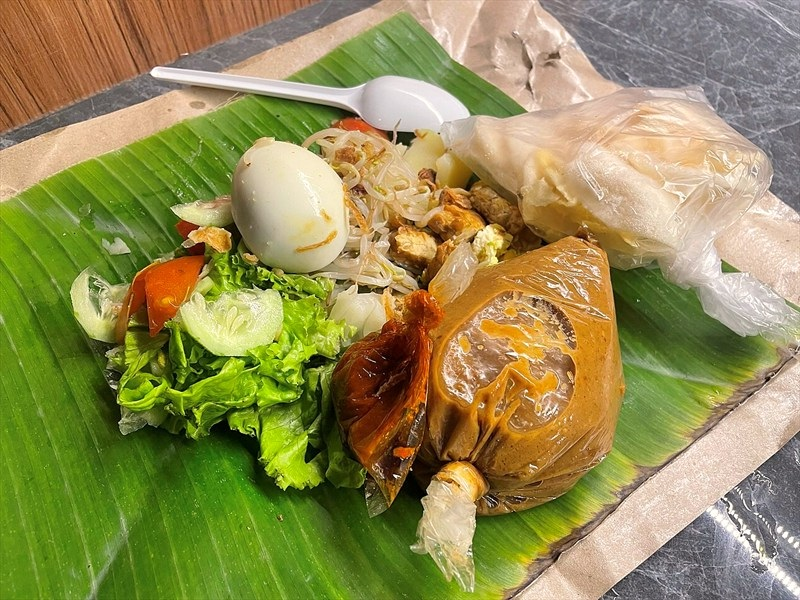Gado-Gado: (107, 99, 608, 506)
